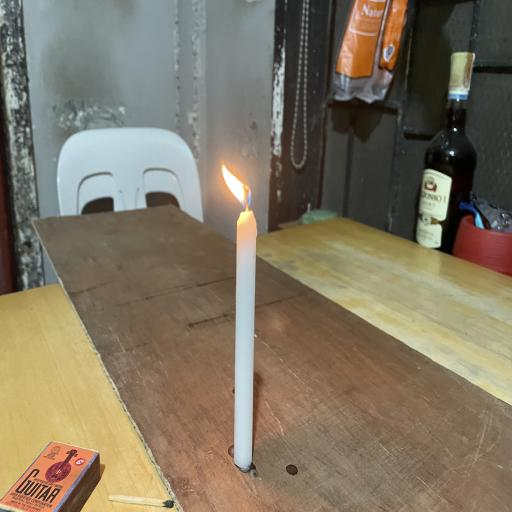fire: (209, 152, 268, 221)
